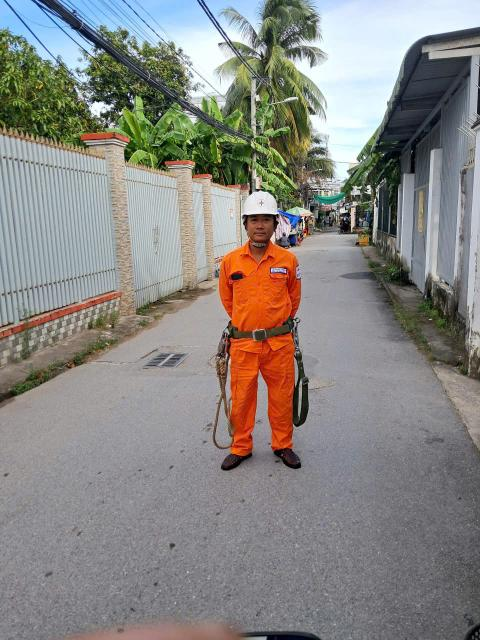harness: (217, 317, 310, 343)
helmet: (238, 188, 284, 215)
shoes: (269, 434, 308, 473), (218, 442, 254, 476)
